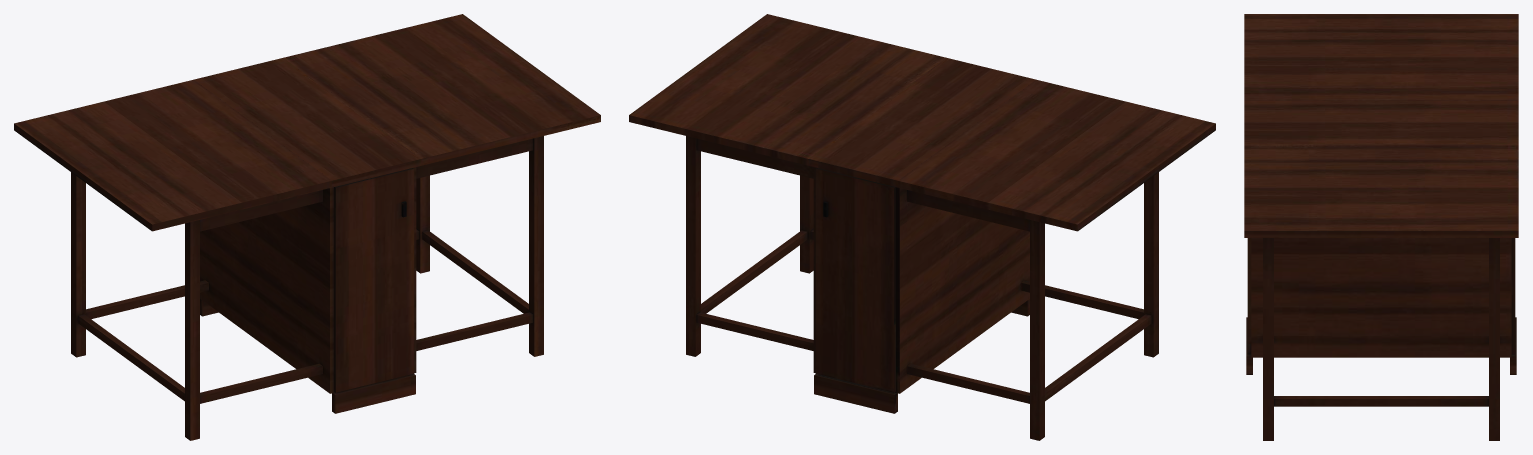
File: table_book_web.glb
3 renders of one model, left to right at view 1: azimuth 30°, elevation 25°; view 2: azimuth 150°, elevation 25°; view 3: azimuth 270°, elevation 25°, orthographic.
Visible parts, largest first — view 1: TableBook_Body, Leaf_L_Mesh, Leaf_R_Mesh, Gate_L_Mesh, Gate_R_Mesh; view 2: TableBook_Body, Leaf_L_Mesh, Leaf_R_Mesh, Gate_L_Mesh, Gate_R_Mesh; view 3: TableBook_Body, Leaf_R_Mesh, Leaf_L_Mesh, Gate_R_Mesh.
Part boxes in pixels (box(x1,y1,x2,y2)): TableBook_Body: box(194, 58, 421, 413); Leaf_L_Mesh: box(14, 79, 331, 231); Leaf_R_Mesh: box(283, 14, 600, 165); Gate_L_Mesh: box(71, 172, 322, 440); Gate_R_Mesh: box(416, 136, 543, 356); TableBook_Body: box(808, 58, 1035, 413); Leaf_L_Mesh: box(898, 79, 1215, 231); Leaf_R_Mesh: box(629, 14, 946, 165); Gate_L_Mesh: box(907, 172, 1158, 440); Gate_R_Mesh: box(686, 136, 813, 356); TableBook_Body: box(1244, 101, 1518, 374); Leaf_R_Mesh: box(1244, 144, 1518, 237); Leaf_L_Mesh: box(1244, 14, 1518, 100); Gate_R_Mesh: box(1263, 238, 1499, 440).
Size of the model in its own units: 1.5 by 0.75 by 0.8.
Materials: 1 (1 with a texture image).
